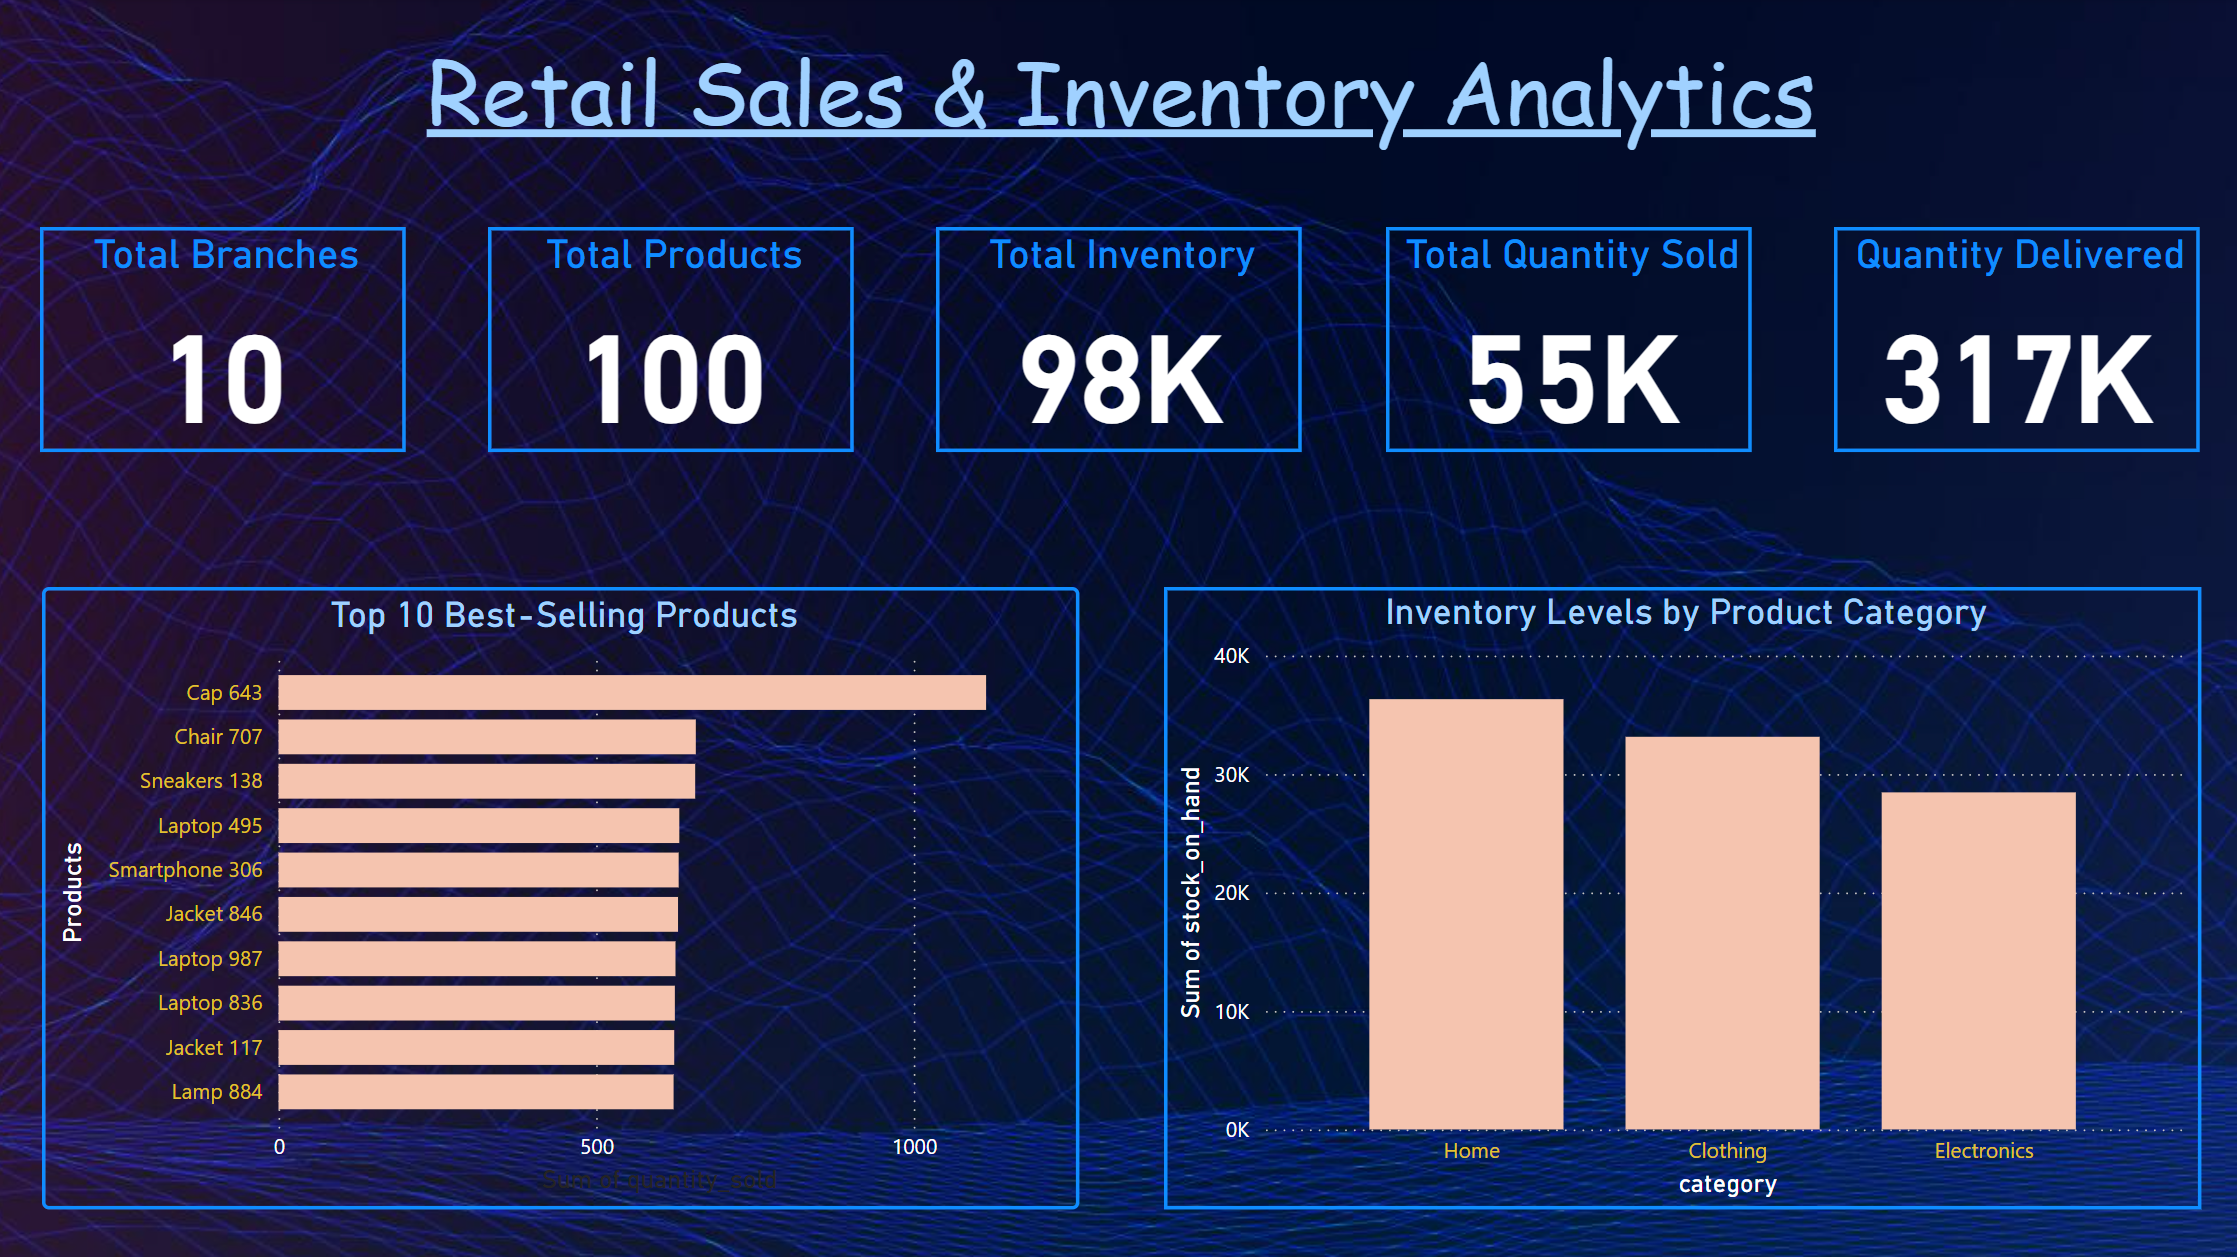

The page's visual inventory and layout, read from the dashboard file:
{"tool":"powerbi","page":{"name":"Page 1","canvas":[1280,720],"ordinal":0},"visuals":[{"type":"textbox","title":"Retail Sales & Inventory Analytics","box":[46.7,17.9,1186.6,70],"z":0},{"type":"card","title":"Total Branches","fields":{"Values":["CountNonNull(branches.branch_id)"]},"box":[25,131,208,128],"z":1000},{"type":"card","title":"Total Products","fields":{"Values":["Count(products.product_id)"]},"box":[280,131,208,128],"z":2000},{"type":"card","title":"Total Inventory","fields":{"Values":["Sum(inventory.stock_on_hand)"]},"box":[535,131,208,128],"z":3000},{"type":"card","title":"Total Quantity Sold","fields":{"Values":["Sum(sales.quantity_sold)"]},"box":[790,131,208,128],"z":4000},{"type":"card","title":"Quantity Delivered","fields":{"Values":["Sum(deliveries.quantity_delivered)"]},"box":[1045,131,208,128],"z":5000},{"type":"clusteredBarChart","title":"Top 10 Best-Selling Products","fields":{"Category":["products.product_name"],"Y":["Sum(sales.quantity_sold)"]},"box":[26,336,590,354],"z":6000},{"type":"clusteredColumnChart","title":"Inventory Levels by Product Category","fields":{"Category":["products.category"],"Y":["Sum(inventory.stock_on_hand)"]},"box":[664,336,590,354],"z":7000}]}

Visuals, with their boxes in screenshot pixels (x1, y1, x2, y2), scaled from the page's 1280x720 canvas onto the 2237x1257 screenshot:
"Retail Sales & Inventory Analytics" textbox: {"x1": 82, "y1": 31, "x2": 2155, "y2": 153}
"Total Branches" card: {"x1": 44, "y1": 229, "x2": 407, "y2": 452}
"Total Products" card: {"x1": 489, "y1": 229, "x2": 853, "y2": 452}
"Total Inventory" card: {"x1": 935, "y1": 229, "x2": 1299, "y2": 452}
"Total Quantity Sold" card: {"x1": 1381, "y1": 229, "x2": 1744, "y2": 452}
"Quantity Delivered" card: {"x1": 1826, "y1": 229, "x2": 2190, "y2": 452}
"Top 10 Best-Selling Products" clusteredBarChart: {"x1": 45, "y1": 587, "x2": 1077, "y2": 1205}
"Inventory Levels by Product Category" clusteredColumnChart: {"x1": 1160, "y1": 587, "x2": 2192, "y2": 1205}
